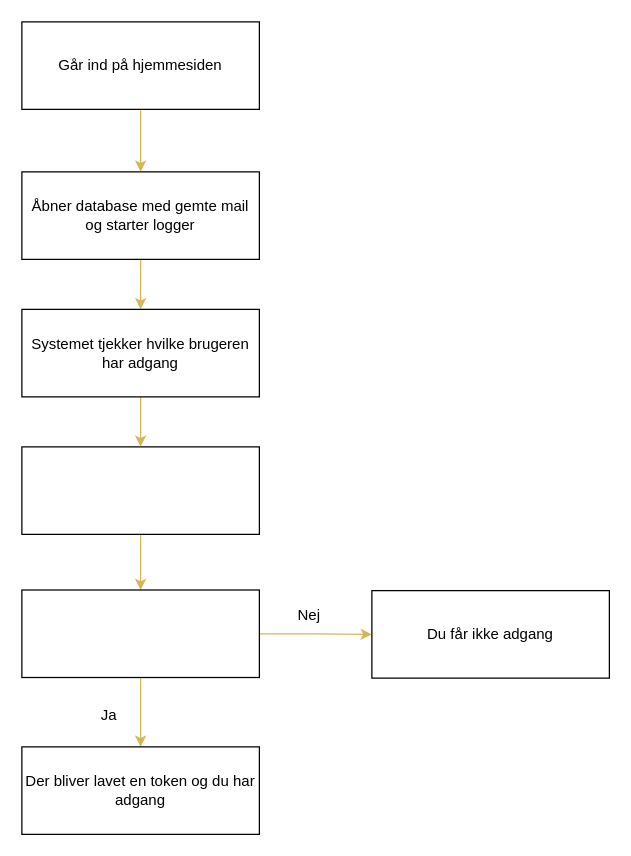
This 631x856 diagram has some shape labels left out. Each missing label, with the centre of its shape:
"Man logger ind" belongs at point 140,490.
"Systemet tjekker om du er en af dem der har adgang" belongs at point 140,633.
